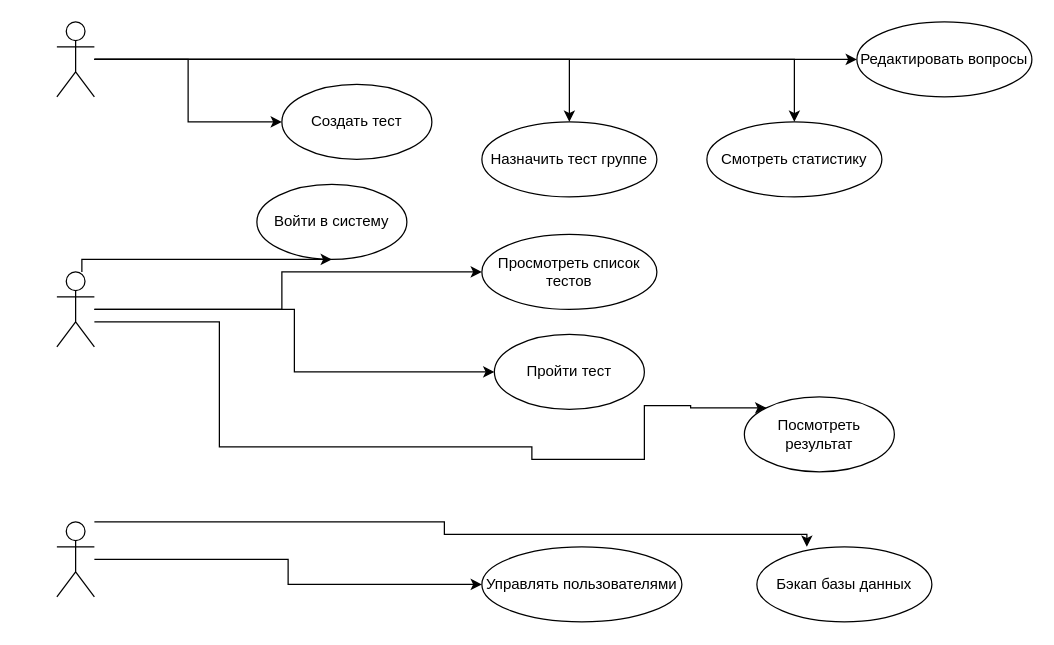
Some shapes in this 1054 by 645 pixel diagram are drawn without their labels. Each missing label, with the centre of its shape:
Администратор: the point at 75,559
Преподаватель: the point at 75,59
Студент: the point at 75,309
